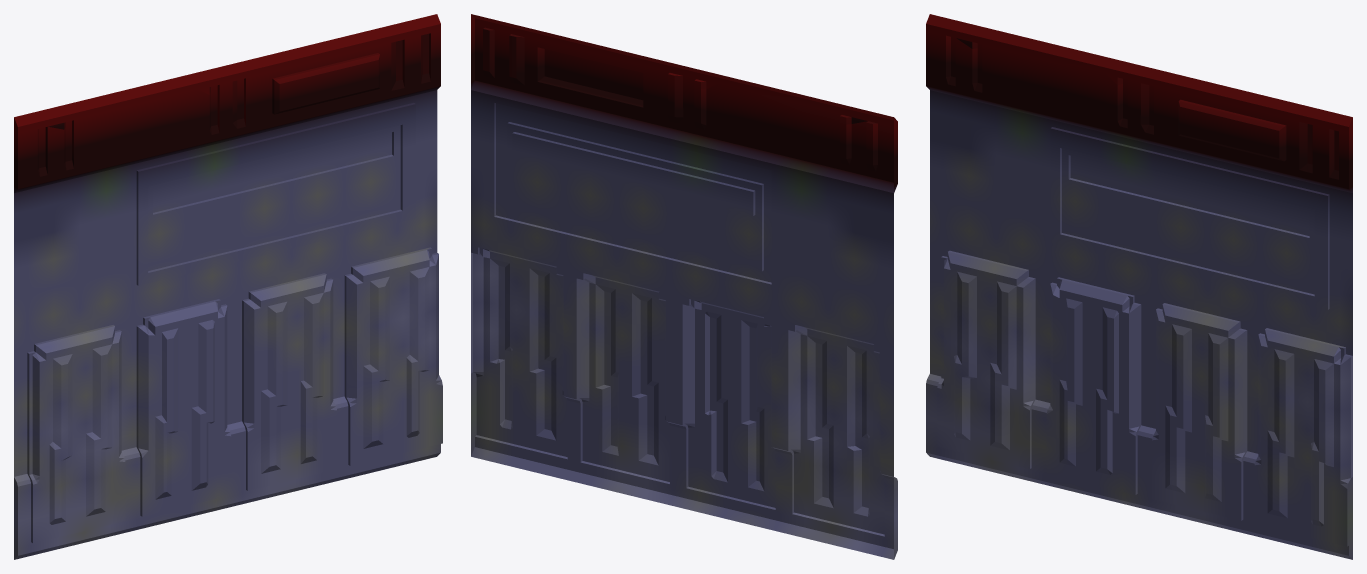
The model's file is sci1_7.fbx.
The picture shows the model from 3 angles, left to right: view 1: azimuth 30°, elevation 25°; view 2: azimuth 150°, elevation 25°; view 3: azimuth 330°, elevation 25°; orthographic projection.
Parts seen in each view (by area): view 1: sci1_7; view 2: sci1_7; view 3: sci1_7.
Boxes of the visible parts, <box> form: sci1_7: <box>14,14,442,559</box>; sci1_7: <box>471,14,897,559</box>; sci1_7: <box>926,14,1352,559</box>.
Bounding box in the file's own units: 256 × 256 × 10.
